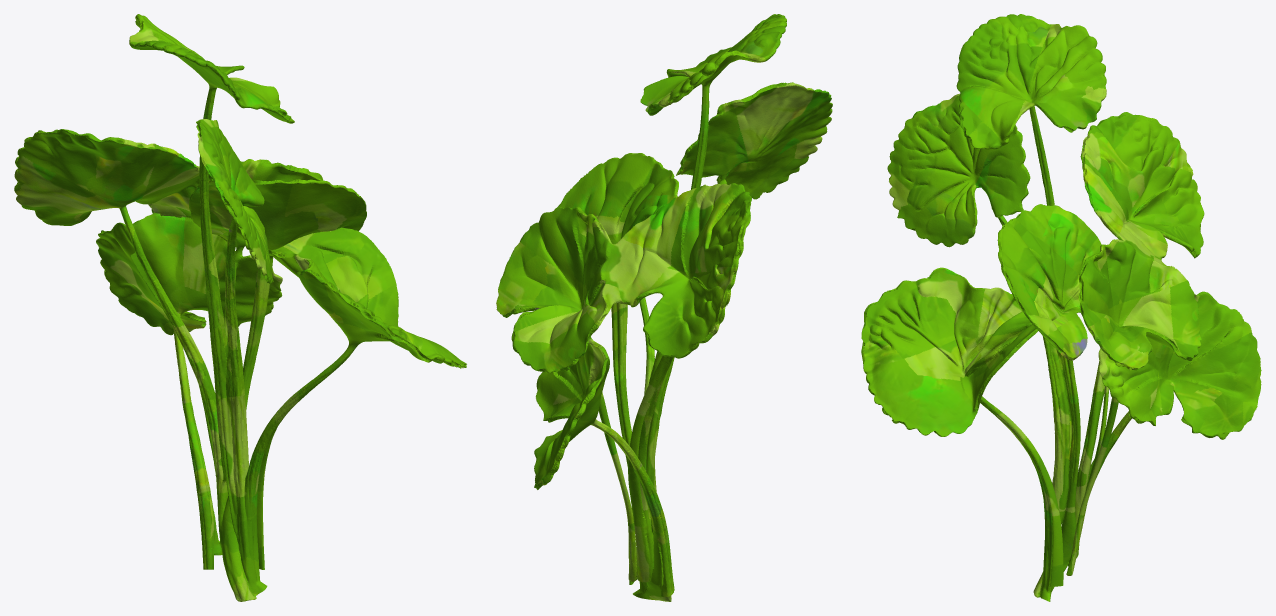
File: gotukola.glb
3 renders of one model, left to right at view 1: azimuth 30°, elevation 25°; view 2: azimuth 150°, elevation 25°; view 3: azimuth 270°, elevation 25°, orthographic. The views are drawn at different scales.
Visible parts, largest first — view 1: tripo_node_611605ad-3cf7-40e9-83b8-66c2b9727e5d; view 2: tripo_node_611605ad-3cf7-40e9-83b8-66c2b9727e5d; view 3: tripo_node_611605ad-3cf7-40e9-83b8-66c2b9727e5d.
Boxes of the visible parts, x1,y1,x2,y2 form: tripo_node_611605ad-3cf7-40e9-83b8-66c2b9727e5d: (14, 14, 466, 601); tripo_node_611605ad-3cf7-40e9-83b8-66c2b9727e5d: (496, 14, 832, 601); tripo_node_611605ad-3cf7-40e9-83b8-66c2b9727e5d: (861, 14, 1261, 601).
Size of the model in its own units: 0.5249 by 1 by 0.6798.
1 material, 1 textured.
